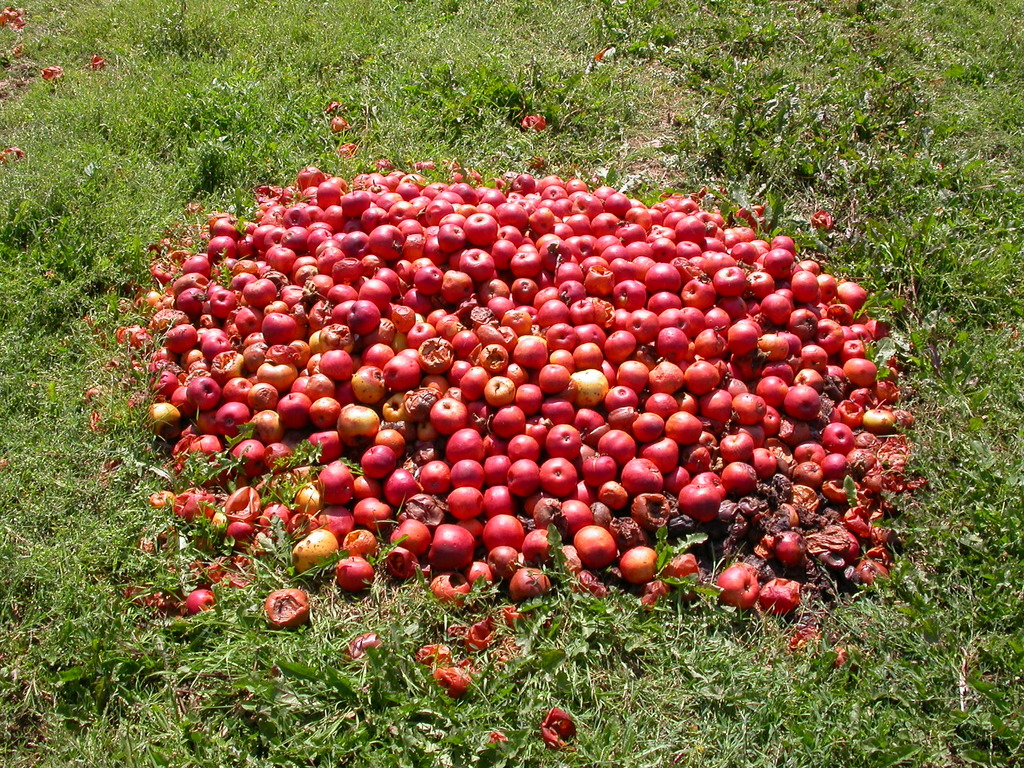Apple: (115, 162, 924, 700), (717, 563, 759, 604), (538, 707, 575, 747), (524, 113, 549, 130), (330, 112, 348, 133), (39, 64, 59, 79), (341, 141, 357, 156)
